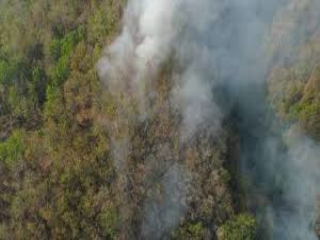smoke: (106, 4, 181, 130)
